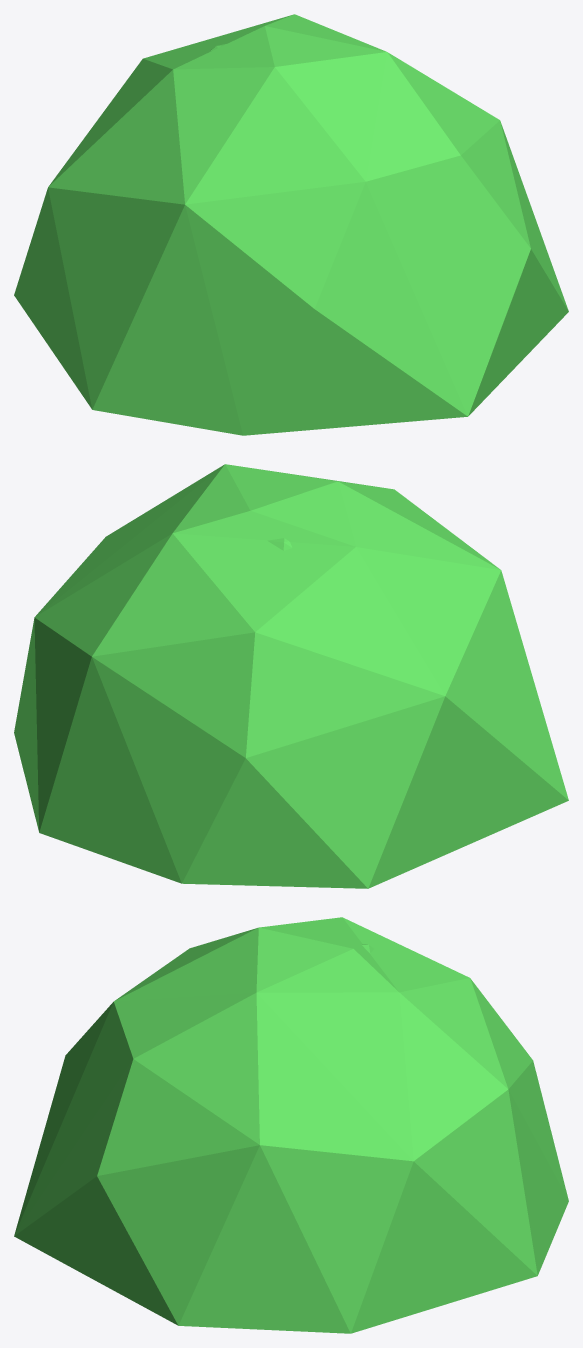
File: bush1.gltf
The picture shows the model from 3 angles, top to bottom: view 1: azimuth 30°, elevation 25°; view 2: azimuth 150°, elevation 25°; view 3: azimuth 270°, elevation 25°; orthographic projection. The views are drawn at different scales.
Visible parts, largest first — view 1: Sphere.035_leaves_0; view 2: Sphere.035_leaves_0; view 3: Sphere.035_leaves_0.
Part boxes in pixels (x1=…): Sphere.035_leaves_0: x1=14, y1=14, x2=568, y2=435; Sphere.035_leaves_0: x1=14, y1=464, x2=568, y2=888; Sphere.035_leaves_0: x1=14, y1=917, x2=568, y2=1333.
Bounding box in the file's own units: 0.5079 × 0.2847 × 0.5187.
